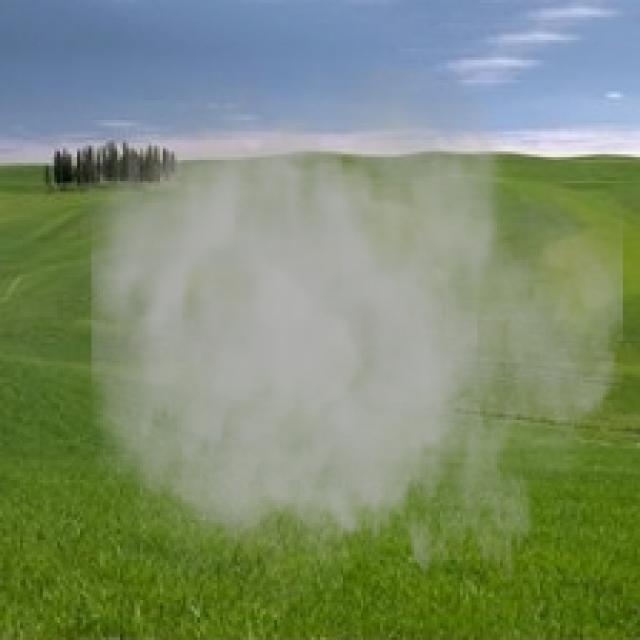smoke: (57, 69, 623, 637)
